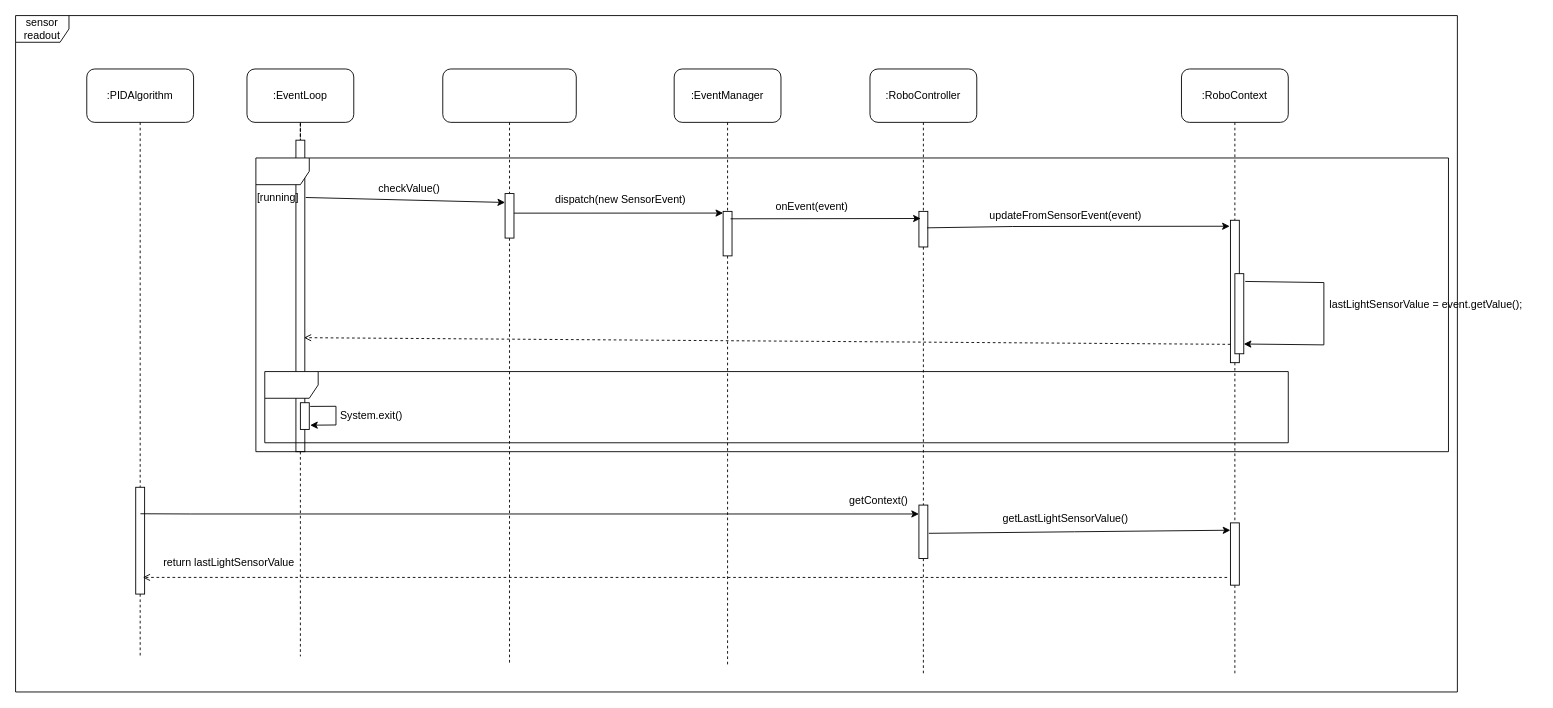
The diagram is 1553 pixels wide and 708 high, and some of its shapes have lost their labels. Here are the shapes that lost their labels. From the top down, the box of each, then its label:
(442, 68, 576, 122): :AbstractSensorReader
(255, 157, 1448, 452): loop
(264, 371, 1288, 443): break
